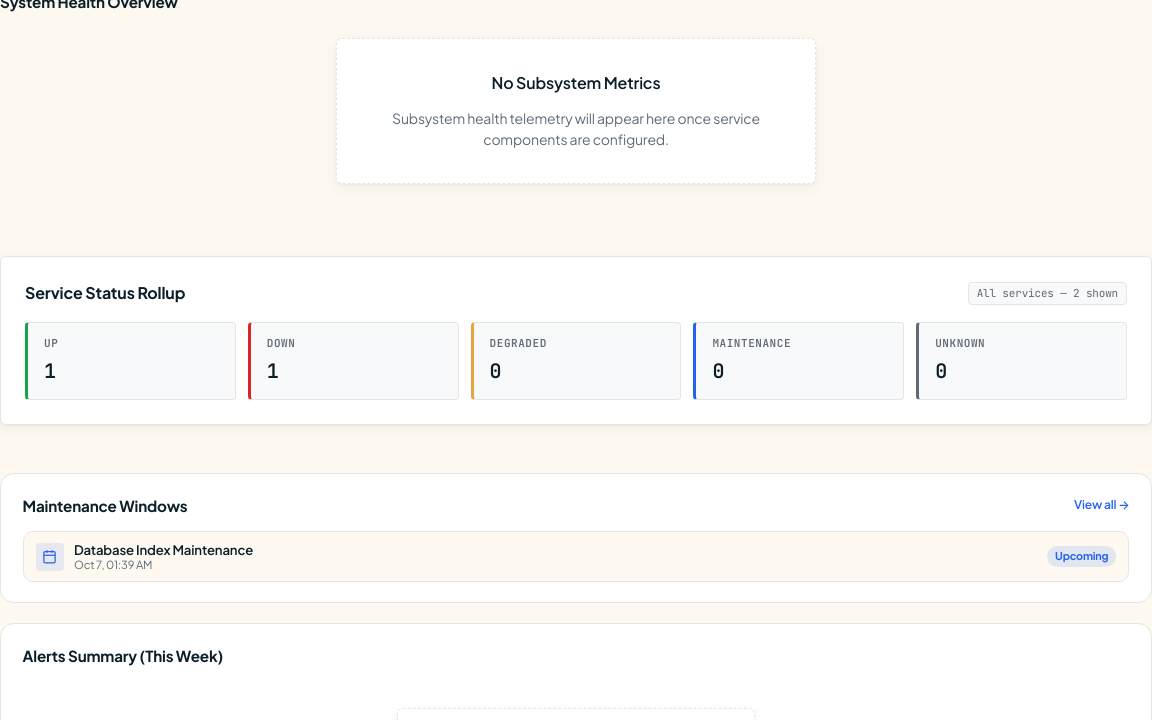
Scenario: Phase 7 — Dashboard Overview Compliance & Behavior › Frontend-Only Status Query Parameter Contract › navigates from dashboard status chip to /services?status=down, applies client filter, and sends ZERO status= query param to GET /services
(page scrolled)
Click the DOWN status chip on dashboard
Click the link with test id "status-rollup-chip-down" at (353, 361), box [248, 322, 459, 400]
(page scrolled)
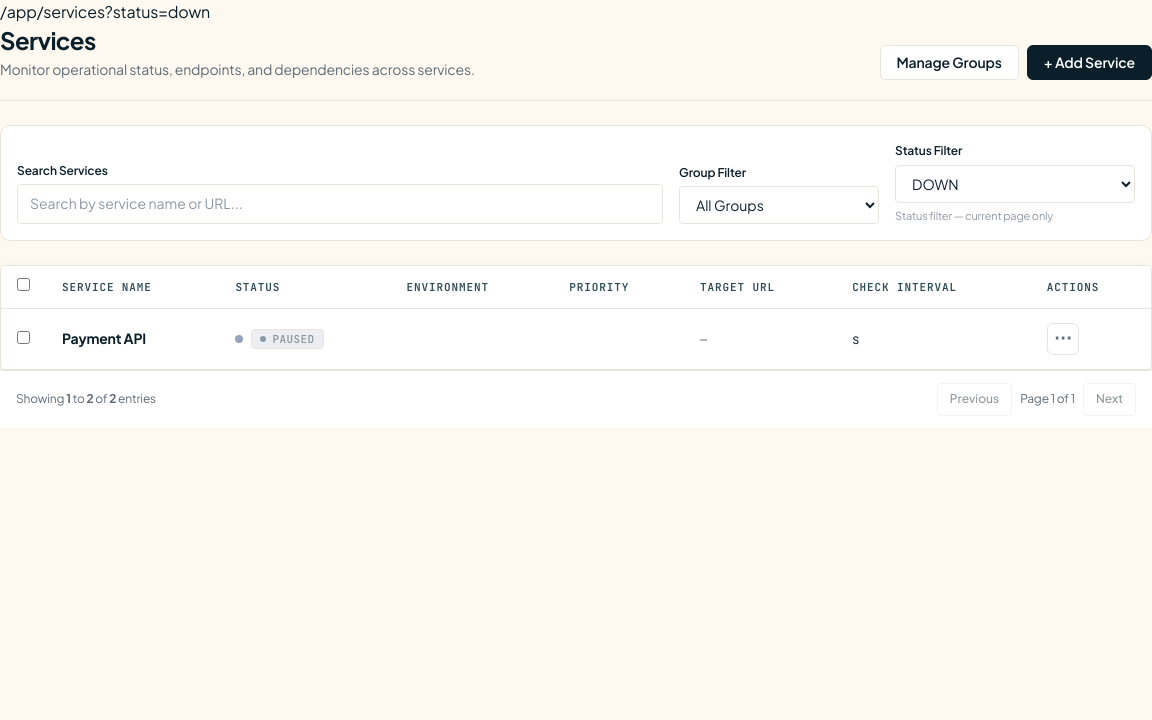
Expected: the text with test id "location-display" shows "services?status=down", [0, 1, 210, 22]
Expected: the link "Payment API" is shown, [62, 329, 146, 347]
